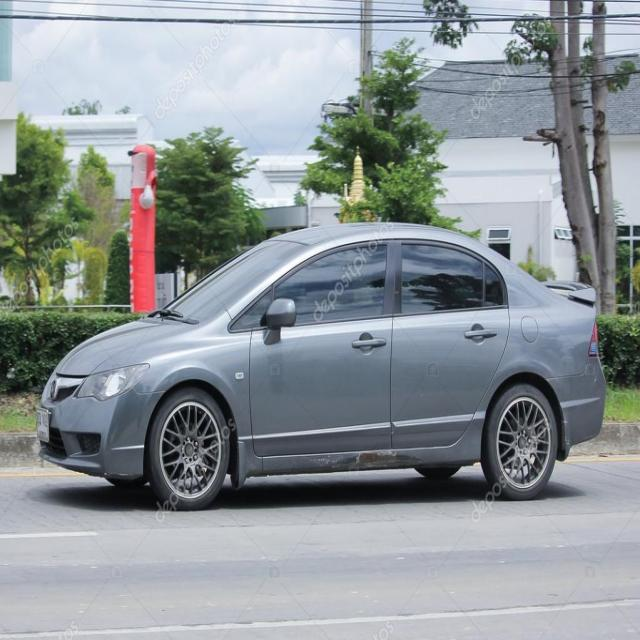car: (33, 238, 605, 499)
